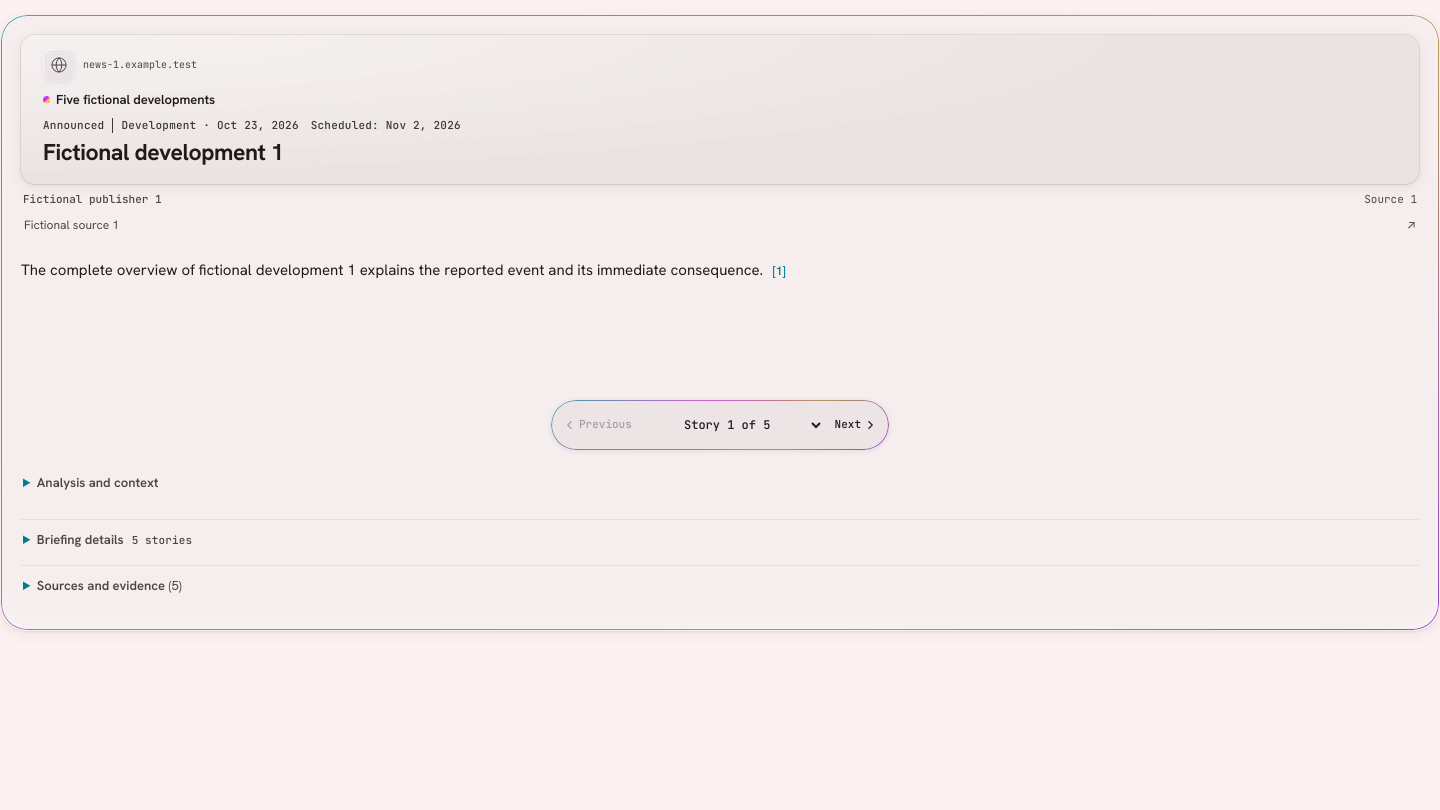
shows one complete overview at a time and native story selection preserves citations above source eight
Later steps or results of the test are not shown.
Expected: the text "5 stories" is shown, top-left (132, 533), bottom-right (192, 547)
Expected: the heading "Briefing details5 stories" does not show "Partial coverage", top-left (37, 531), bottom-right (192, 548)
Select "Story 1 of 5" in the dropdown named "Choose a story": point(733, 425) top-left (642, 403), bottom-right (825, 447)
Select "Story 2 of 5" in the dropdown named "Choose a story": point(733, 425) top-left (642, 403), bottom-right (825, 447)
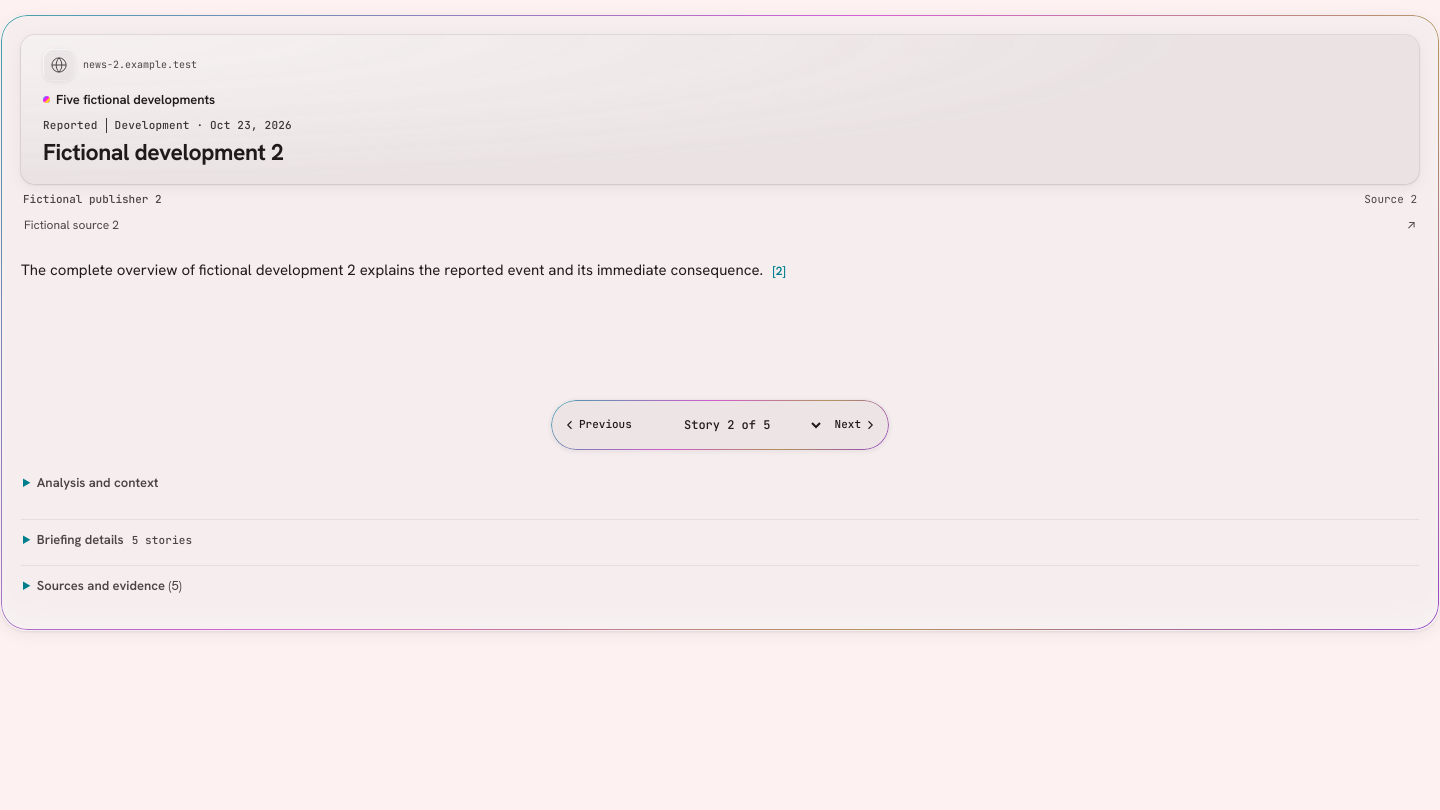
Select "Story 3 of 5" in the dropdown named "Choose a story": point(733, 425) top-left (642, 403), bottom-right (825, 447)
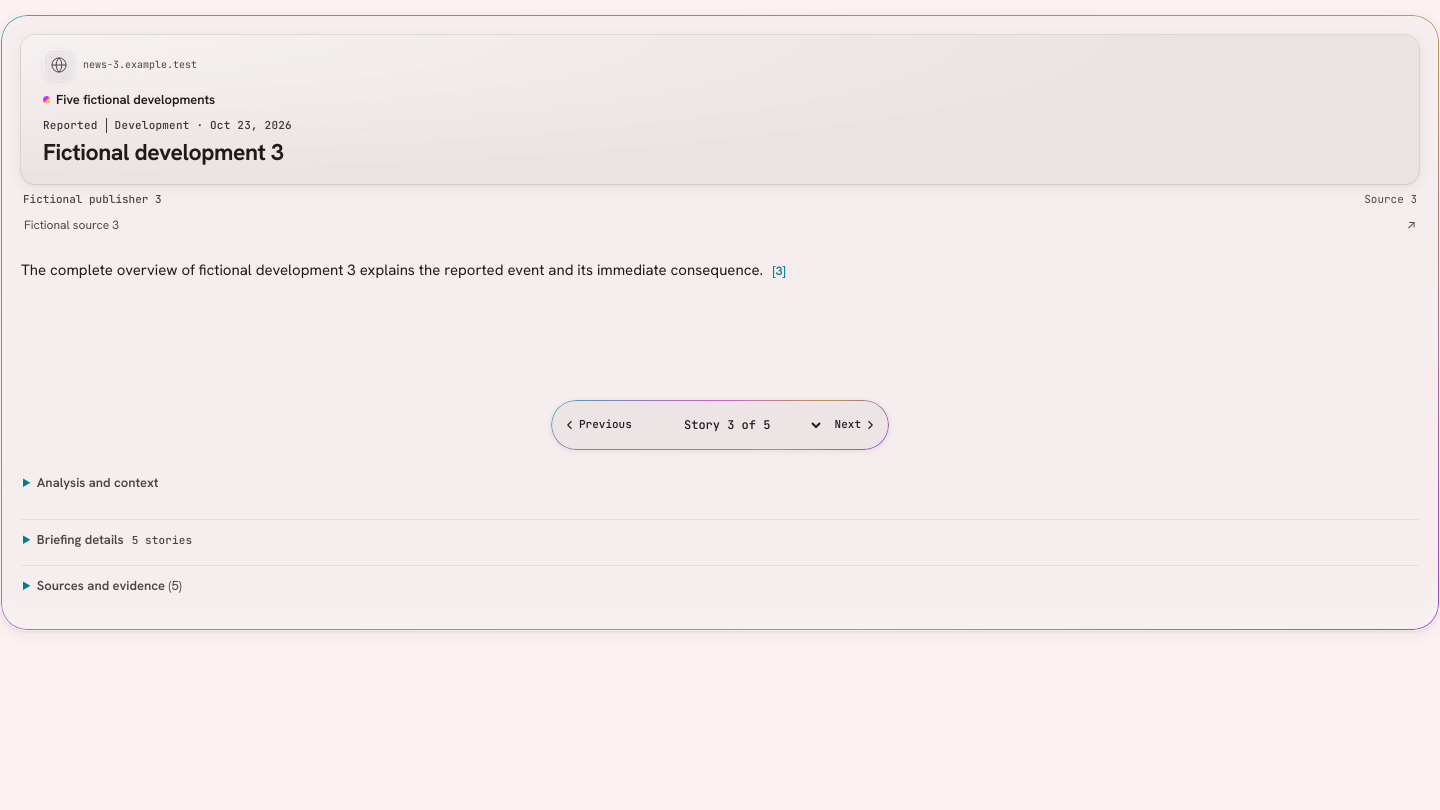
Select "Story 4 of 5" in the dropdown named "Choose a story": point(733, 425) top-left (642, 403), bottom-right (825, 447)
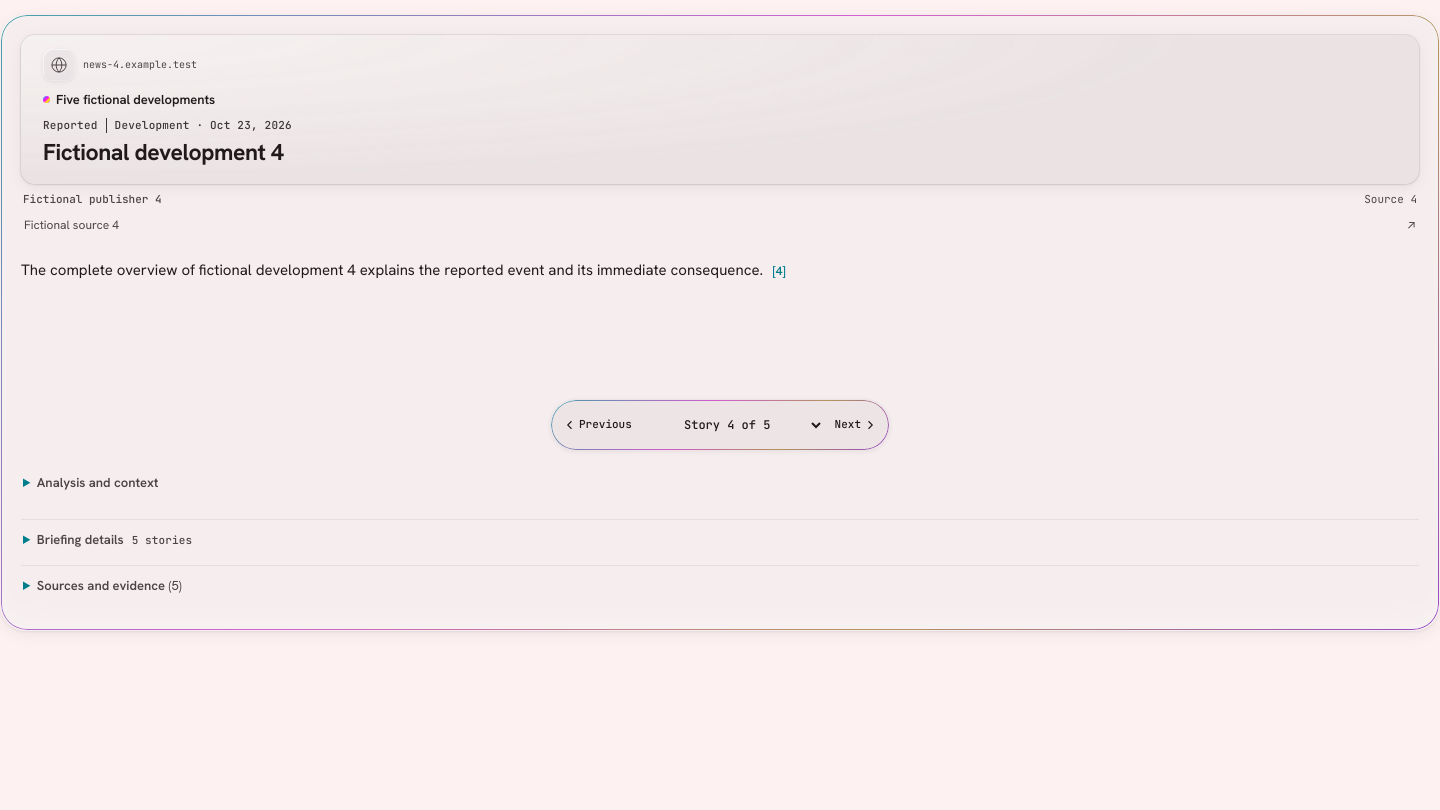
Expected: the heading "Fictional development 4" is shown, top-left (43, 137), bottom-right (284, 167)
